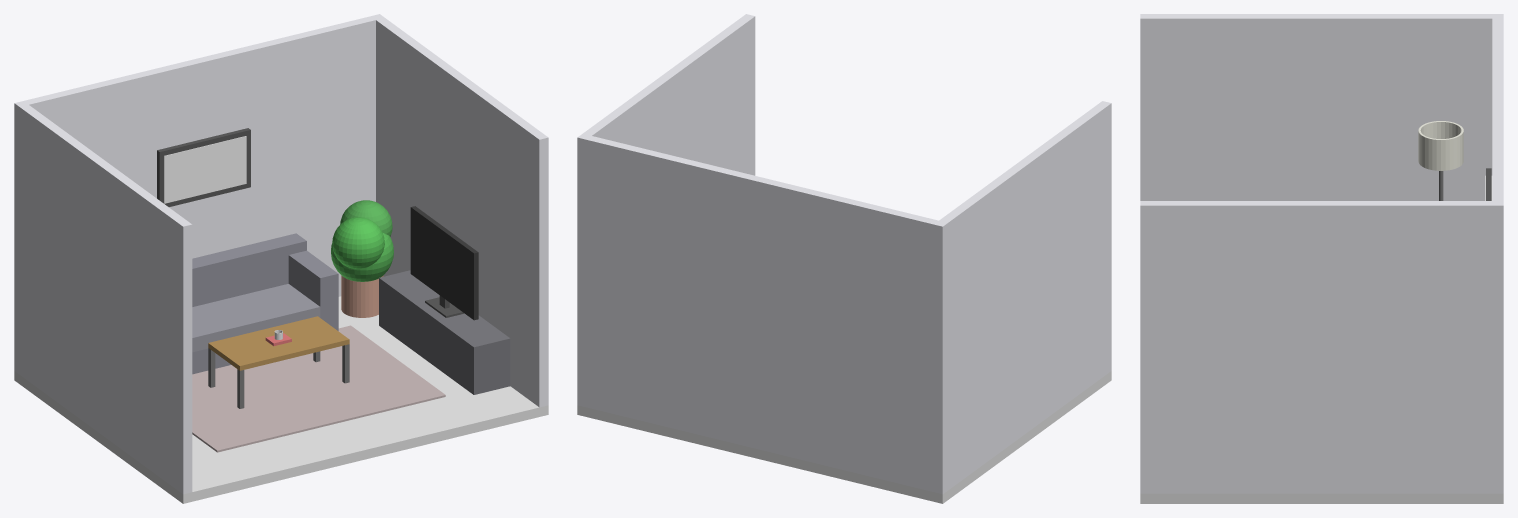
File: living-room-1.glb
The picture shows the model from 3 angles, left to right: view 1: azimuth 30°, elevation 25°; view 2: azimuth 150°, elevation 25°; view 3: azimuth 270°, elevation 25°; orthographic projection. The views are drawn at different scales.
Parts seen in each view (by area): view 1: compact_living_room-room_architecture-Cube-cube, compact_living_room-room_architecture-Cube-cube.002, compact_living_room-room_architecture-Cube-cube.003, compact_living_room-room_architecture-Cube-cube.001, compact_living_room-rug-Cube-cube, compact_living_room-tv_console-Cube-cube, compact_living_room-sofa-Cube-cube.002, compact_living_room-tv-Cube-cube, compact_living_room-sofa-Cube-cube, compact_living_room-wall_art-Cube-cube, compact_living_room-coffee_table-Cube-cube.001, compact_living_room-sofa-Cube-cube.004 (+5 smaller); view 2: compact_living_room-room_architecture-Cube-cube.002, compact_living_room-room_architecture-Cube-cube, compact_living_room-room_architecture-Cube-cube.003, compact_living_room-room_architecture-Cube-cube.001; view 3: compact_living_room-room_architecture-Cube-cube.003, compact_living_room-room_architecture-Cube-cube, compact_living_room-room_architecture-Cube-cube.002, compact_living_room-room_architecture-Cube-cube.001, compact_living_room-floor_lamp-BooleanDifference-Cylinder-c.
Boxes of the visible parts, x1,y1,x2,y2 form: compact_living_room-room_architecture-Cube-cube: (14,101,192,494); compact_living_room-room_architecture-Cube-cube.002: (14,14,384,373); compact_living_room-room_architecture-Cube-cube.003: (371,14,548,407); compact_living_room-room_architecture-Cube-cube.001: (14,296,548,503); compact_living_room-rug-Cube-cube: (192,325,445,452); compact_living_room-tv_console-Cube-cube: (379,270,510,394); compact_living_room-sofa-Cube-cube.002: (192,233,306,306); compact_living_room-tv-Cube-cube: (410,206,478,320); compact_living_room-sofa-Cube-cube: (192,284,320,352); compact_living_room-wall_art-Cube-cube: (164,136,246,203); compact_living_room-coffee_table-Cube-cube.001: (208,316,349,370); compact_living_room-sofa-Cube-cube.004: (288,250,338,320); compact_living_room-room_architecture-Cube-cube.002: (580,133,947,493); compact_living_room-room_architecture-Cube-cube: (933,101,1111,494); compact_living_room-room_architecture-Cube-cube.003: (577,14,755,407); compact_living_room-room_architecture-Cube-cube.001: (577,371,1111,503); compact_living_room-room_architecture-Cube-cube.003: (1140,201,1503,493); compact_living_room-room_architecture-Cube-cube: (1140,14,1503,200); compact_living_room-room_architecture-Cube-cube.002: (1492,14,1503,493); compact_living_room-room_architecture-Cube-cube.001: (1140,493,1503,503); compact_living_room-floor_lamp-BooleanDifference-Cylinder-c: (1418,121,1463,170).
Bounding box in the file's own units: 4 × 2.9 × 3.2.
